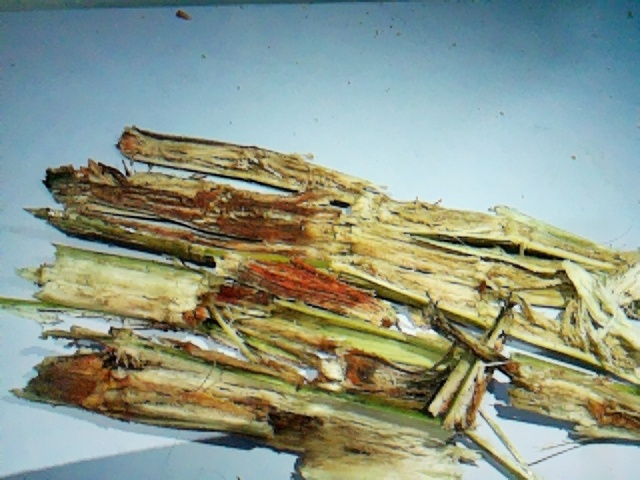Red-Rot: (21, 113, 483, 467), (486, 330, 640, 455)
